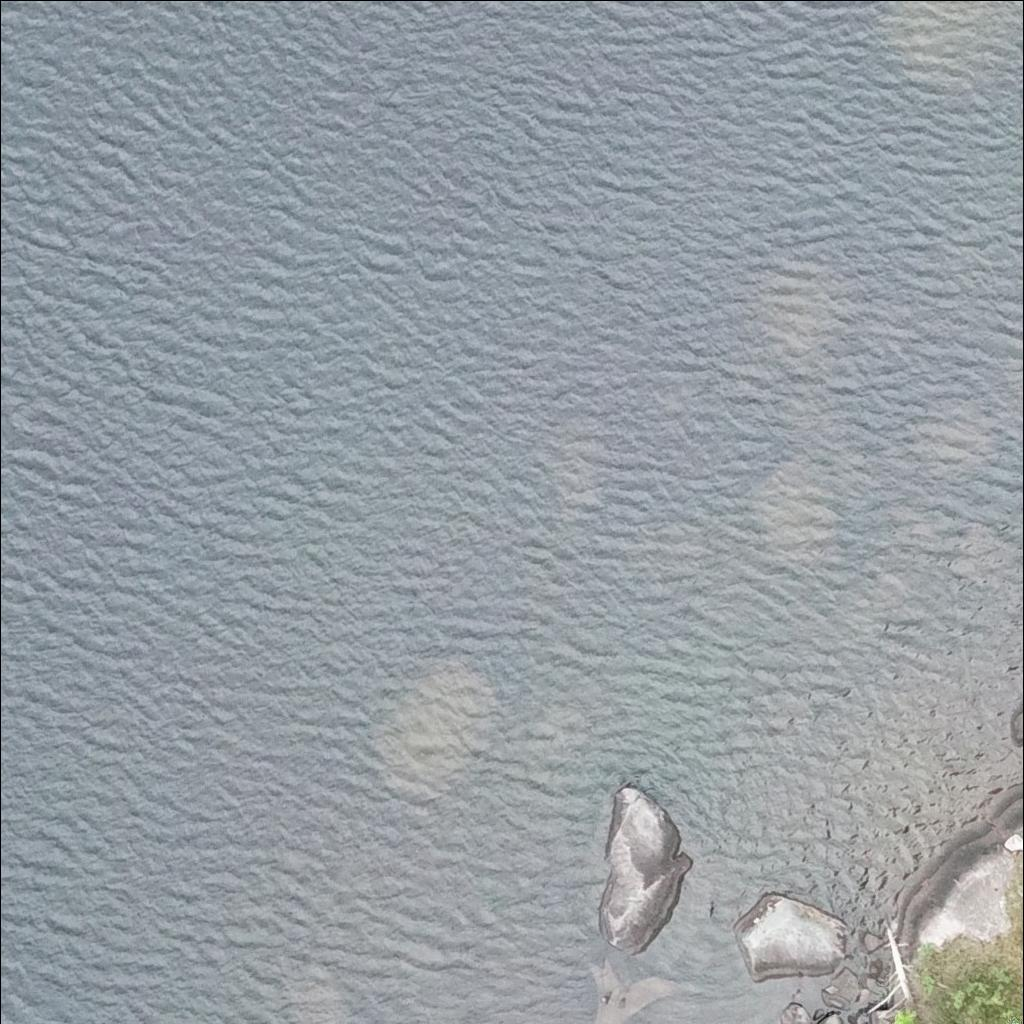crown: (1012, 1020, 1023, 1023)
